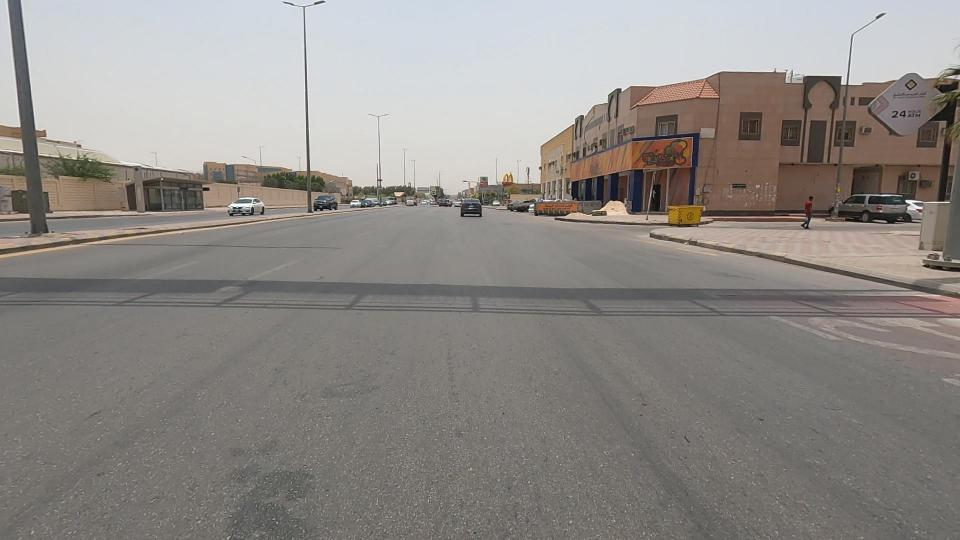BAD_BILLBOARD: (837, 39, 960, 164), (525, 131, 674, 199)
